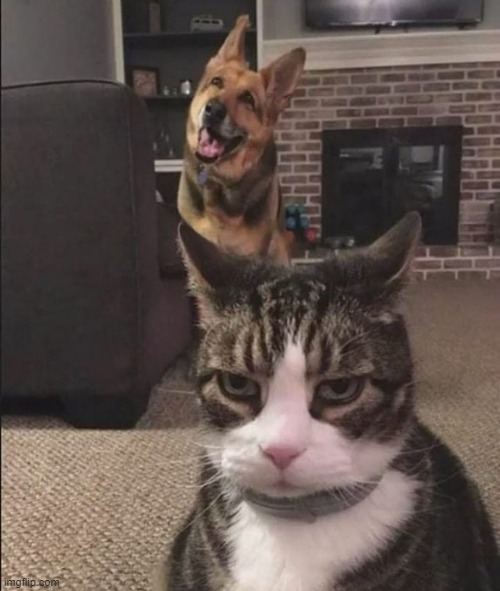cat: (173, 211, 498, 587)
dog: (178, 12, 307, 263)
